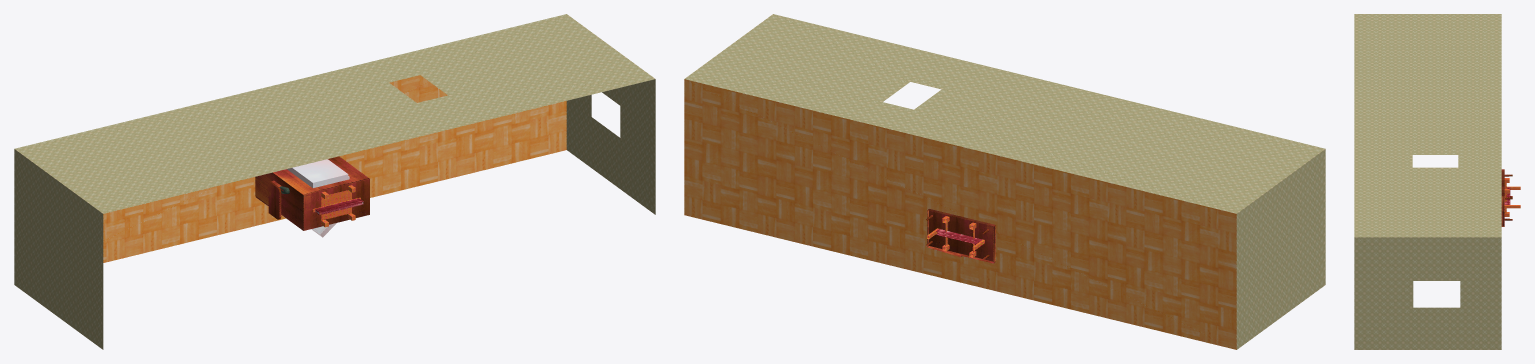
File: post-soviet-furniture-set-with-dithering-e179fb.glb
3 renders of one model, left to right at view 1: azimuth 30°, elevation 25°; view 2: azimuth 150°, elevation 25°; view 3: azimuth 270°, elevation 25°, orthographic. The views are drawn at different scales.
Visible parts, largest first — view 1: PropMesh; view 2: PropMesh; view 3: PropMesh.
Part boxes in pixels (bbox=[...]): PropMesh: bbox=[14, 14, 655, 349]; PropMesh: bbox=[684, 14, 1325, 349]; PropMesh: bbox=[1354, 14, 1520, 349].
Bounding box in the file's own units: 9.35 × 2.2 × 2.94.
12 materials, 11 textured.
